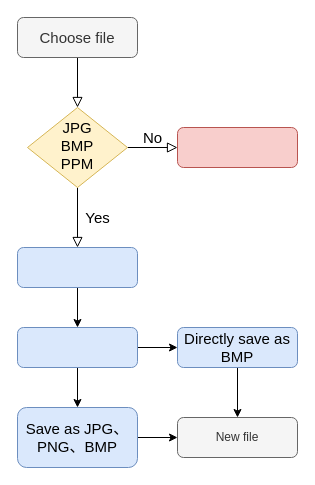
Some shapes in this 315 by 485 pixel diagram are drawn without their labels. Here are the shapes that lost their labels. From the top down, the centre of each, then its label:
At point 237,147: "Not show in window".
At point 77,267: "Show image".
At point 77,347: "Save Image".
